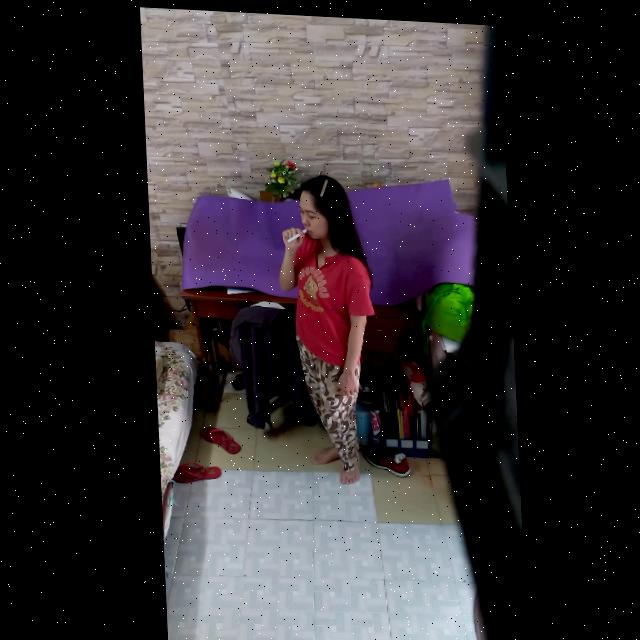cigarette: (284, 225, 305, 241)
